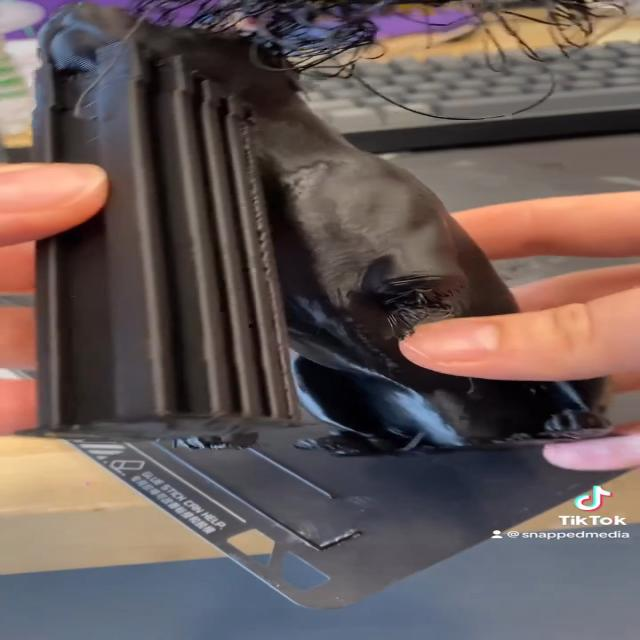spaghetti: (112, 0, 615, 124)
